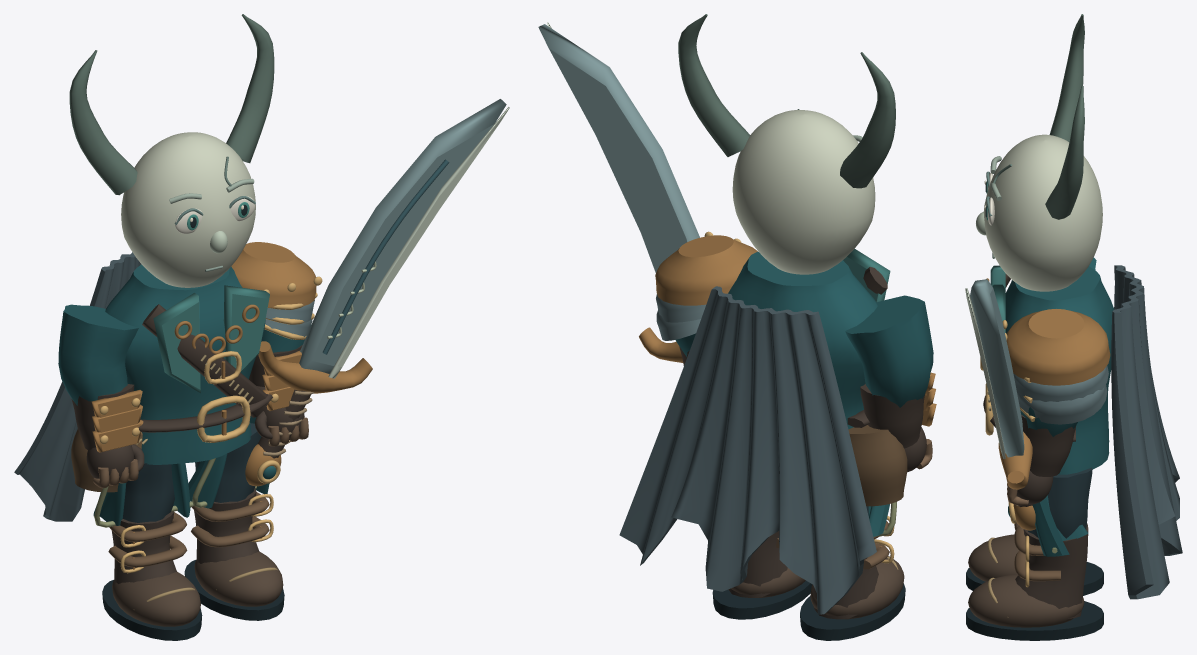
Rendered from Enemy0.obj.
The picture shows the model from 3 angles, left to right: view 1: azimuth 30°, elevation 25°; view 2: azimuth 150°, elevation 25°; view 3: azimuth 270°, elevation 25°; orthographic projection. The views are drawn at different scales.
Visible parts, largest first — view 1: Enemy0(Clone)__Rig__Body__Sculpt_render, Enemy0(Clone)__Rig__Body__Head__Sculpt_render, Enemy0(Clone)__Rig__Body__ArmR__Forearm__Weapon__Sculpt_render, Enemy0(Clone)__Rig__LegR__Shin__Sculpt_render, Enemy0(Clone)__Rig__LegL__Shin__Sculpt_render, Enemy0(Clone)__Rig__Body__ScarfTail__Sculpt_render, Enemy0(Clone)__Rig__Body__ArmR__Sculpt_render, Enemy0(Clone)__Rig__Body__ArmL__Sculpt_render, Enemy0(Clone)__Rig__Body__ArmL__Forearm__Sculpt_render, Enemy0(Clone)__Rig__Body__ArmR__Forearm__Sculpt_render, Enemy0(Clone)__Rig__LegL__Sculpt_render, Enemy0(Clone)__Rig__LegR__Sculpt_render; view 2: Enemy0(Clone)__Rig__Body__ScarfTail__Sculpt_render, Enemy0(Clone)__Rig__Body__Head__Sculpt_render, Enemy0(Clone)__Rig__Body__Sculpt_render, Enemy0(Clone)__Rig__Body__ArmR__Forearm__Weapon__Sculpt_render, Enemy0(Clone)__Rig__Body__ArmL__Sculpt_render, Enemy0(Clone)__Rig__Body__ArmR__Sculpt_render, Enemy0(Clone)__Rig__LegL__Shin__Sculpt_render, Enemy0(Clone)__Rig__LegR__Shin__Sculpt_render, Enemy0(Clone)__Rig__Body__ArmL__Forearm__Sculpt_render; view 3: Enemy0(Clone)__Rig__Body__Head__Sculpt_render, Enemy0(Clone)__Rig__Body__ScarfTail__Sculpt_render, Enemy0(Clone)__Rig__Body__ArmR__Sculpt_render, Enemy0(Clone)__Rig__LegR__Shin__Sculpt_render, Enemy0(Clone)__Rig__Body__Sculpt_render, Enemy0(Clone)__Rig__Body__ArmR__Forearm__Weapon__Sculpt_render, Enemy0(Clone)__Rig__Body__ArmR__Forearm__Sculpt_render, Enemy0(Clone)__Rig__LegL__Shin__Sculpt_render, Enemy0(Clone)__Rig__LegR__Sculpt_render.
Part boxes in pixels (x1,y1,x2,y2): Enemy0(Clone)__Rig__Body__Sculpt_render: (71, 264, 272, 527); Enemy0(Clone)__Rig__Body__Head__Sculpt_render: (69, 14, 274, 287); Enemy0(Clone)__Rig__Body__ArmR__Forearm__Weapon__Sculpt_render: (245, 99, 509, 486); Enemy0(Clone)__Rig__LegR__Shin__Sculpt_render: (184, 488, 284, 620); Enemy0(Clone)__Rig__LegL__Shin__Sculpt_render: (102, 511, 202, 640); Enemy0(Clone)__Rig__Body__ScarfTail__Sculpt_render: (14, 252, 141, 521); Enemy0(Clone)__Rig__Body__ArmR__Sculpt_render: (231, 242, 322, 352); Enemy0(Clone)__Rig__Body__ArmL__Sculpt_render: (58, 304, 138, 405); Enemy0(Clone)__Rig__Body__ArmL__Forearm__Sculpt_render: (71, 384, 144, 488); Enemy0(Clone)__Rig__Body__ArmR__Forearm__Sculpt_render: (249, 345, 309, 446); Enemy0(Clone)__Rig__LegL__Sculpt_render: (122, 463, 174, 522); Enemy0(Clone)__Rig__LegR__Sculpt_render: (195, 423, 260, 502); Enemy0(Clone)__Rig__Body__ScarfTail__Sculpt_render: (619, 286, 876, 614); Enemy0(Clone)__Rig__Body__Head__Sculpt_render: (678, 14, 895, 274); Enemy0(Clone)__Rig__Body__Sculpt_render: (728, 249, 907, 536); Enemy0(Clone)__Rig__Body__ArmR__Forearm__Weapon__Sculpt_render: (538, 22, 699, 362); Enemy0(Clone)__Rig__Body__ArmL__Sculpt_render: (845, 295, 933, 407); Enemy0(Clone)__Rig__Body__ArmR__Sculpt_render: (655, 231, 757, 356); Enemy0(Clone)__Rig__LegL__Shin__Sculpt_render: (800, 516, 905, 640); Enemy0(Clone)__Rig__LegR__Shin__Sculpt_render: (712, 531, 812, 619); Enemy0(Clone)__Rig__Body__ArmL__Forearm__Sculpt_render: (860, 372, 936, 472); Enemy0(Clone)__Rig__Body__Head__Sculpt_render: (976, 14, 1102, 291); Enemy0(Clone)__Rig__Body__ScarfTail__Sculpt_render: (1111, 265, 1182, 599); Enemy0(Clone)__Rig__Body__ArmR__Sculpt_render: (1002, 309, 1110, 436); Enemy0(Clone)__Rig__LegR__Shin__Sculpt_render: (966, 523, 1103, 640); Enemy0(Clone)__Rig__Body__Sculpt_render: (980, 265, 1114, 556); Enemy0(Clone)__Rig__Body__ArmR__Forearm__Weapon__Sculpt_render: (965, 279, 1035, 530); Enemy0(Clone)__Rig__Body__ArmR__Forearm__Sculpt_render: (1007, 414, 1076, 505); Enemy0(Clone)__Rig__LegL__Shin__Sculpt_render: (966, 523, 1103, 595); Enemy0(Clone)__Rig__LegR__Sculpt_render: (1027, 467, 1092, 538).
Size of the model in its own units: 1.9 by 2.5 by 0.8878.
